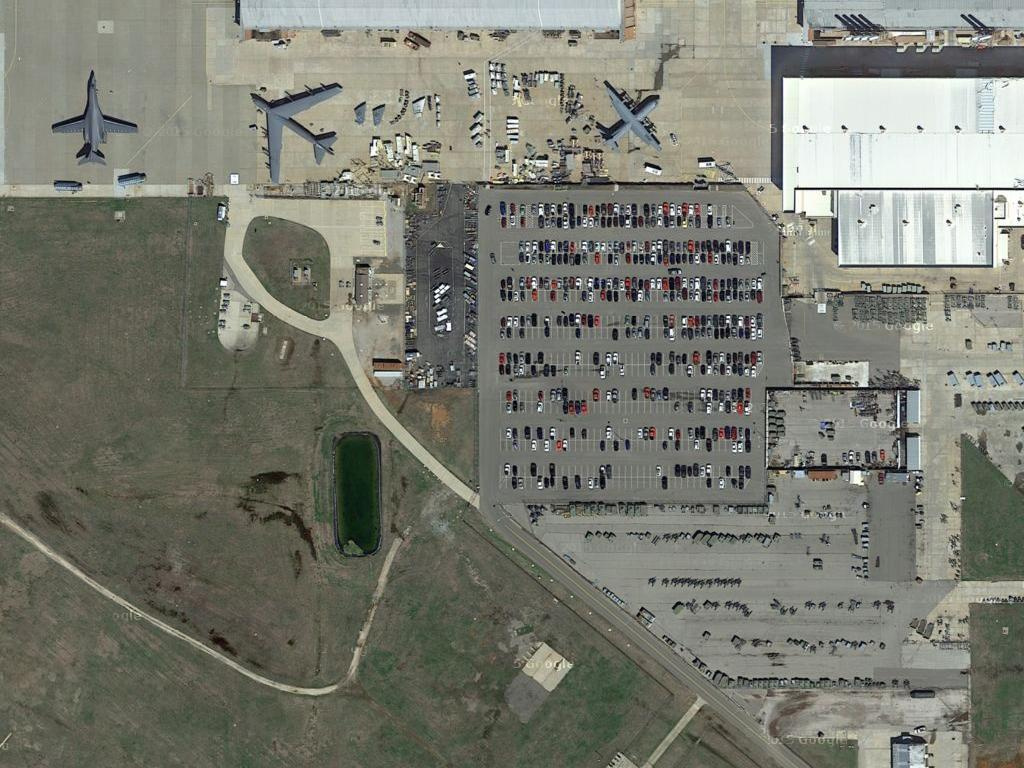B-1B: (51, 74, 142, 162)
B-52: (245, 83, 348, 179)
C-130: (590, 81, 666, 155)
